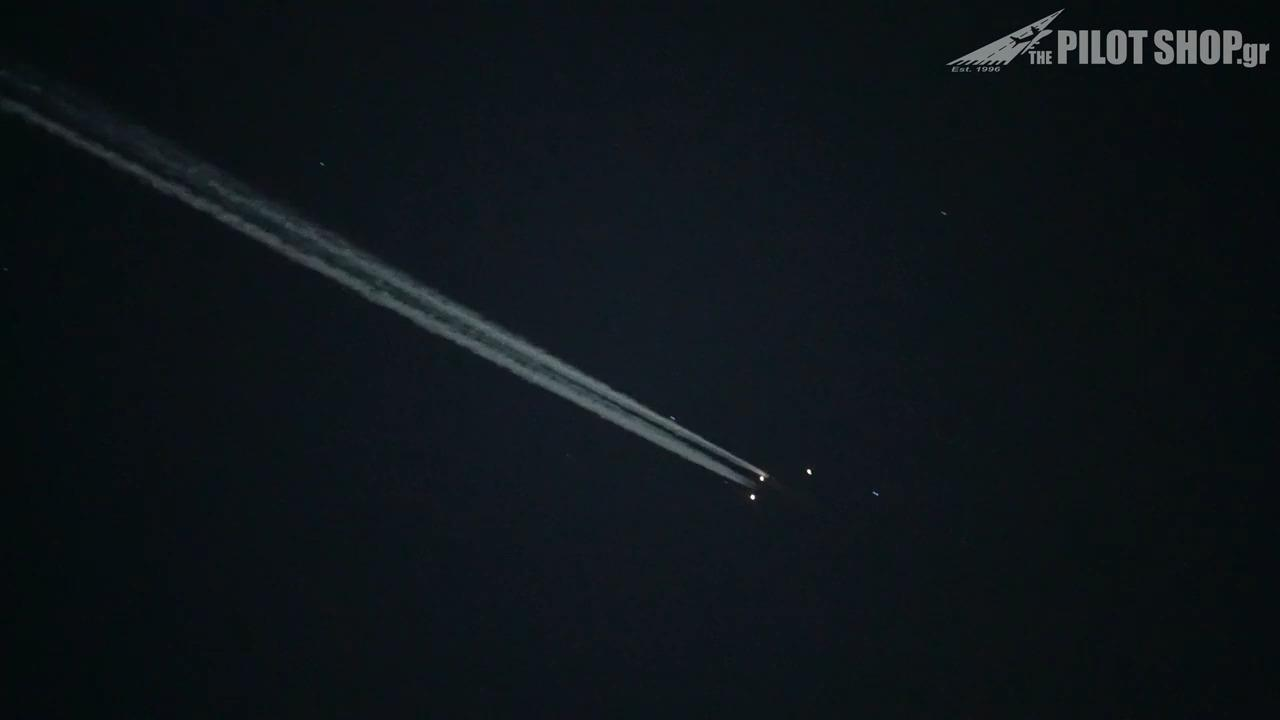Plane: (637, 398, 835, 534)
